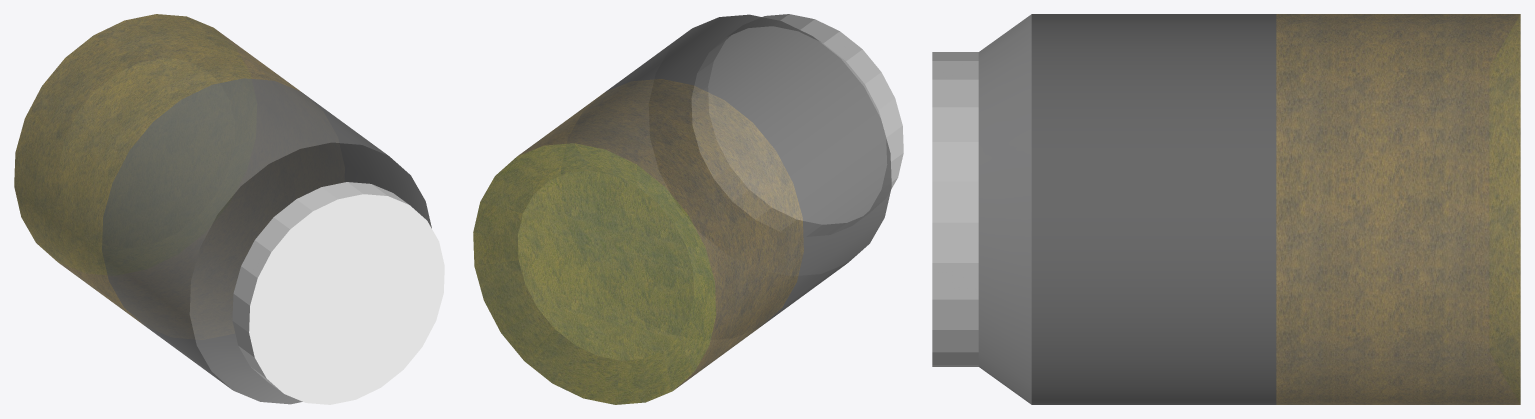
The model's file is model_scale.obj.
3 renders of one model, left to right at view 1: azimuth 30°, elevation 25°; view 2: azimuth 150°, elevation 25°; view 3: azimuth 270°, elevation 25°, orthographic. The views are drawn at different scales.
Visible parts, largest first — view 1: mesh1_mesh1-geometry; view 2: mesh1_mesh1-geometry; view 3: mesh1_mesh1-geometry.
Part boxes in pixels (x1=…): mesh1_mesh1-geometry: x1=14, y1=14, x2=444, y2=404; mesh1_mesh1-geometry: x1=473, y1=14, x2=903, y2=404; mesh1_mesh1-geometry: x1=932, y1=14, x2=1520, y2=404.
Size of the model in its own units: 0.1352 by 0.1352 by 0.2035.
